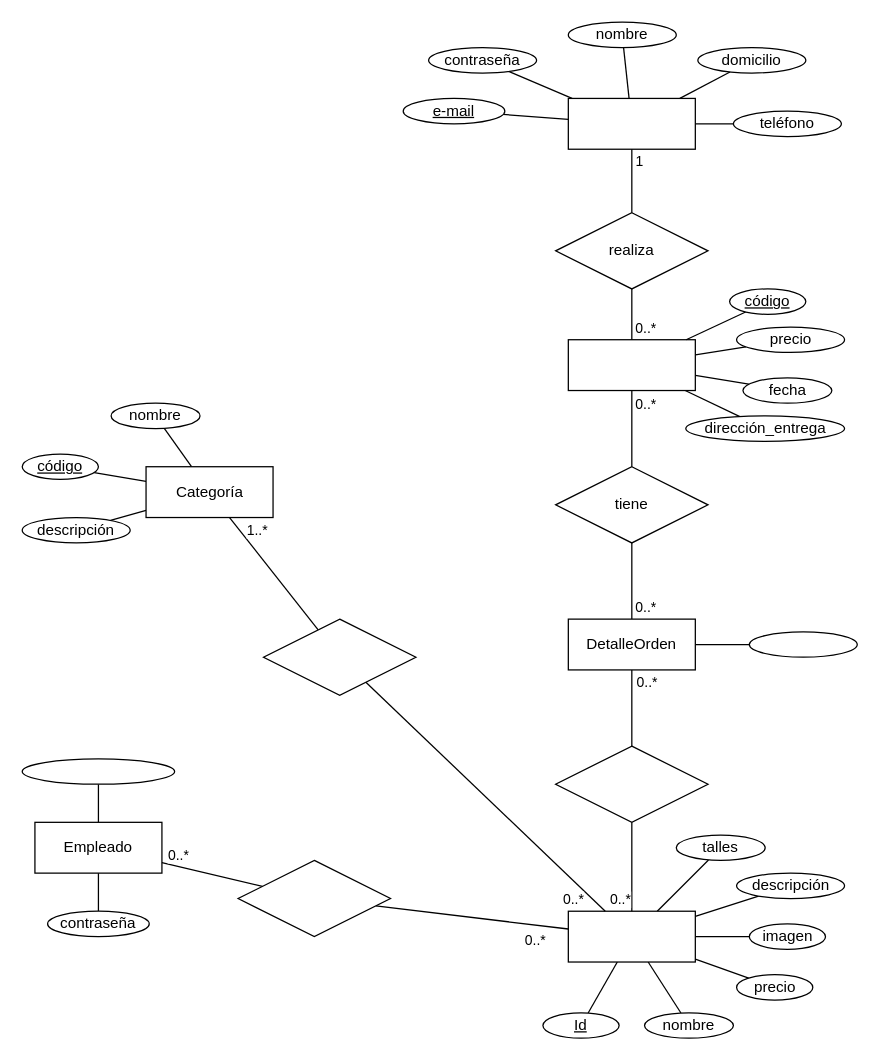
The diagram is 880 pixels wide and 1060 high, and some of its shapes have lost their labels. The centre of each missing label's shape, as x and y in pixels:
"administra" goes at point 314,898.
"cantidad" goes at point 802,644.
"Cliente" goes at point 631,123.
"compone" goes at point 631,783.
"Compra" goes at point 631,364.
"nombre_usuario" goes at point 98,771.
"pertenece" goes at point 339,656.
"Producto" goes at point 631,936.
